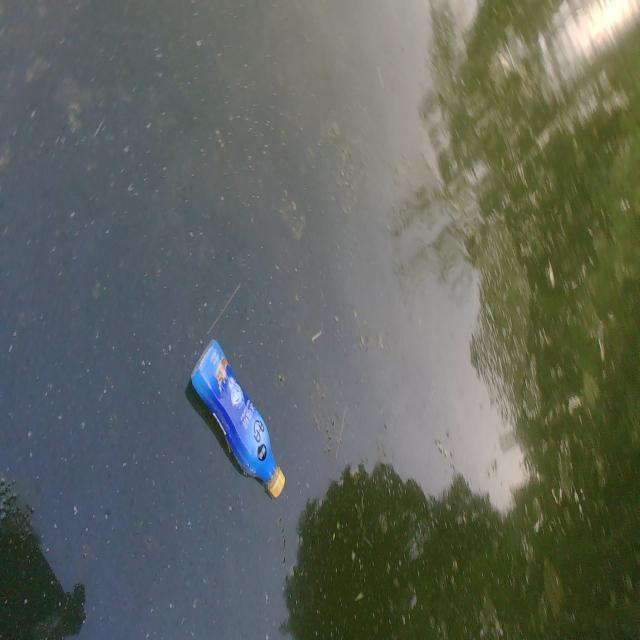bottle: (166, 295, 300, 515)
